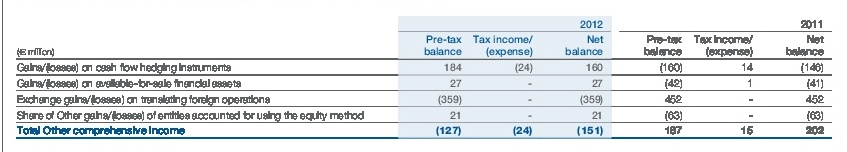table: (0, 0, 847, 152)
